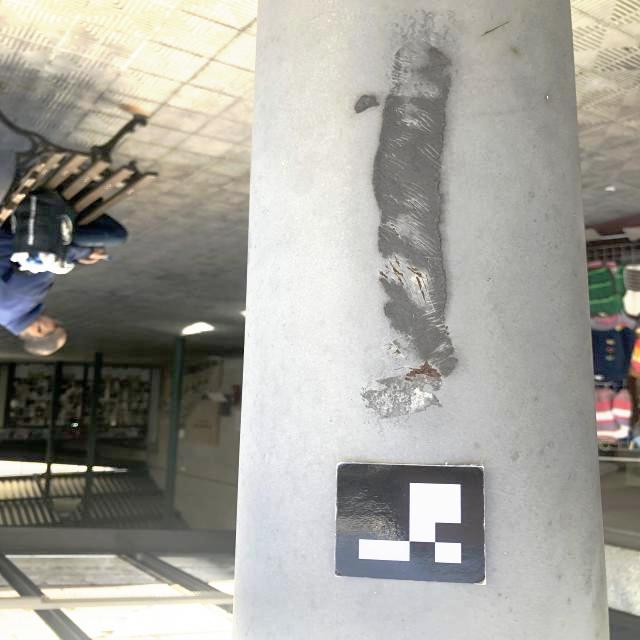Corrosion: (406, 362, 441, 381), (481, 22, 509, 36), (416, 277, 425, 299), (391, 264, 404, 277), (407, 267, 422, 277), (393, 257, 400, 267), (379, 271, 387, 278), (394, 348, 402, 354), (398, 277, 403, 284), (412, 267, 418, 272), (445, 326, 449, 330), (447, 332, 450, 336), (385, 266, 389, 268), (392, 228, 394, 229), (415, 209, 416, 211)
